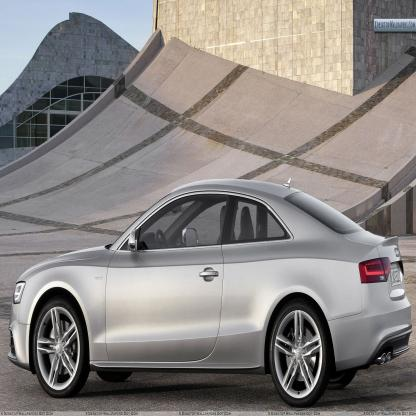Vehicle: (8, 177, 412, 411)
